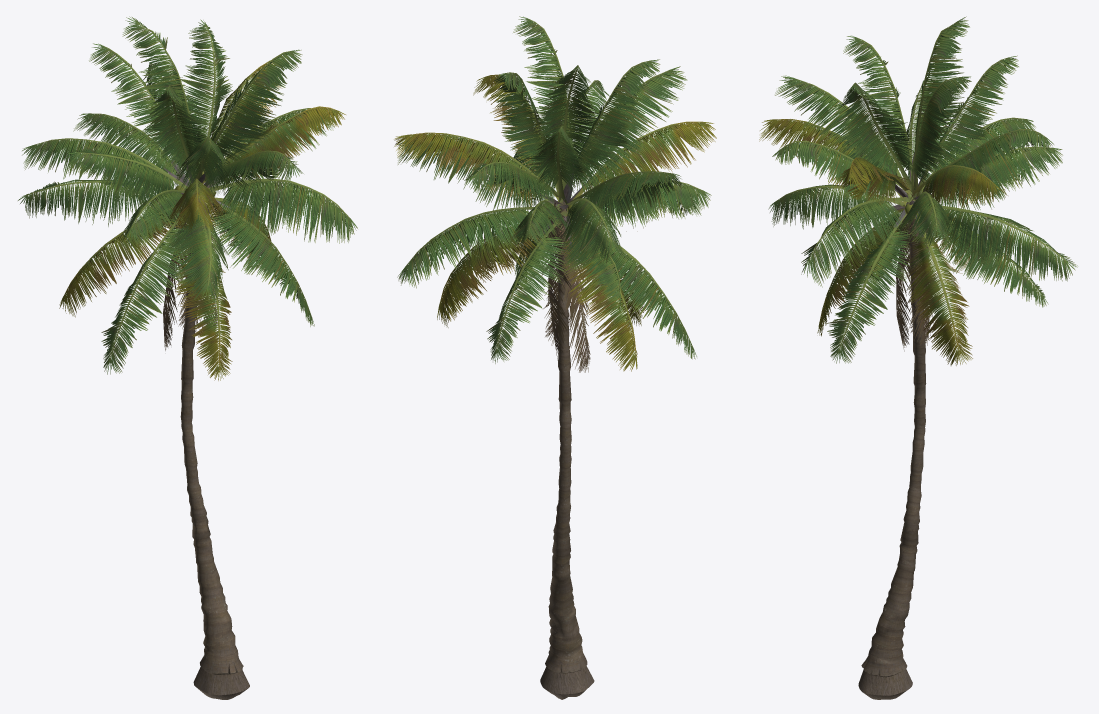
File: SM_PalmCoconut_01.fbx
3 renders of one model, left to right at view 1: azimuth 30°, elevation 25°; view 2: azimuth 150°, elevation 25°; view 3: azimuth 270°, elevation 25°, orthographic. The views are drawn at different scales.
Parts seen in each view (by area): view 1: SM_PalmCoconut_01_LOD0; view 2: SM_PalmCoconut_01_LOD0; view 3: SM_PalmCoconut_01_LOD0.
Boxes of the visible parts, x1,y1,x2,y2 form: SM_PalmCoconut_01_LOD0: (18,16,357,699); SM_PalmCoconut_01_LOD0: (394,16,716,699); SM_PalmCoconut_01_LOD0: (759,16,1077,699).
Size of the model in its own units: 711 by 733 by 1589.
2 materials, 2 textured.
